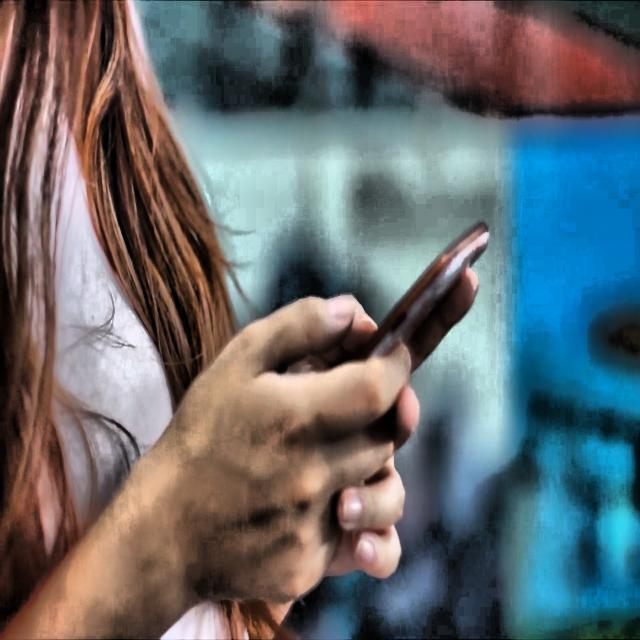Phone: (349, 212, 496, 376)
